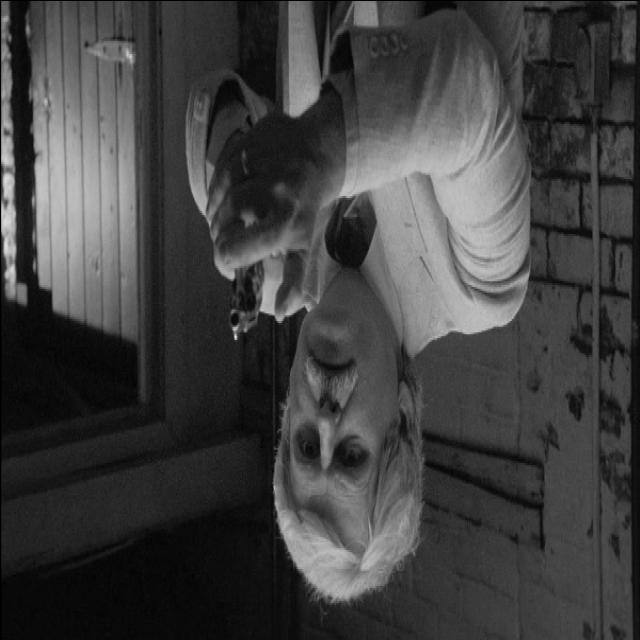weapons: (208, 196, 286, 362)
